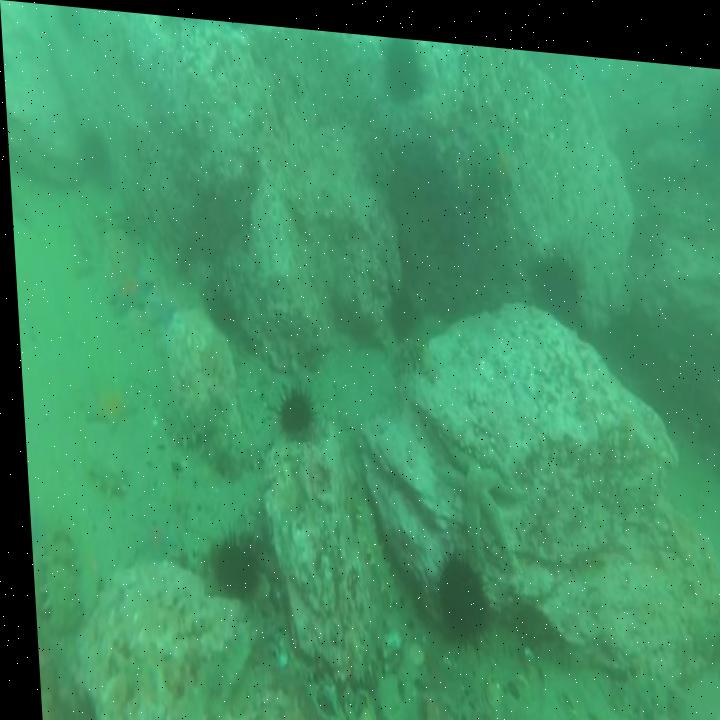echinus: (430, 548, 480, 632), (382, 29, 422, 96), (539, 237, 576, 309), (207, 533, 248, 587), (276, 379, 307, 429), (205, 283, 231, 328)
holothurian: (31, 532, 76, 629), (354, 498, 396, 599), (606, 648, 663, 702), (158, 398, 211, 452), (221, 414, 271, 462), (78, 452, 123, 500), (386, 329, 430, 375), (73, 197, 97, 259)
scallop: (335, 679, 371, 720), (515, 641, 540, 682), (474, 663, 497, 702), (418, 694, 442, 720), (373, 620, 395, 645), (267, 638, 284, 668), (405, 633, 418, 664)
starfish: (427, 433, 515, 547), (81, 371, 131, 424), (111, 265, 144, 312), (630, 702, 676, 720)
